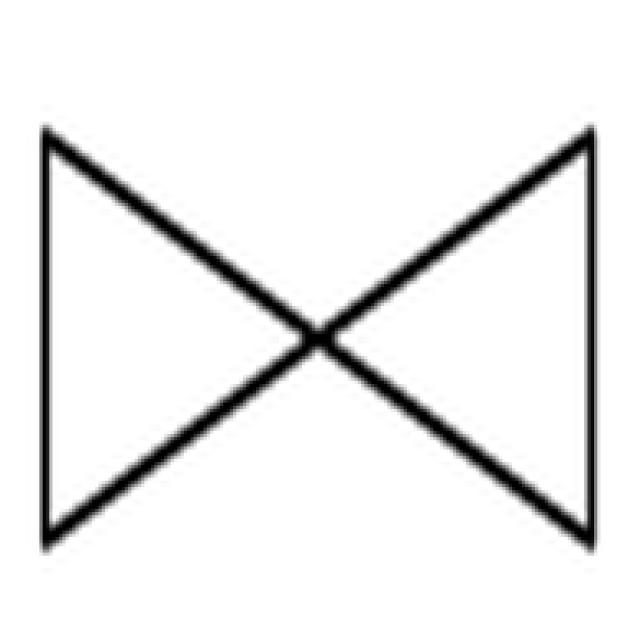Gate valve: (43, 128, 591, 546)
